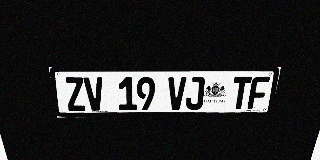1: (117, 77, 137, 110)
9: (137, 77, 155, 110)
F: (247, 77, 270, 109)
J: (185, 77, 205, 110)
T: (230, 77, 252, 109)
V: (83, 77, 105, 111), (167, 77, 186, 110)
Z: (64, 77, 87, 111)
